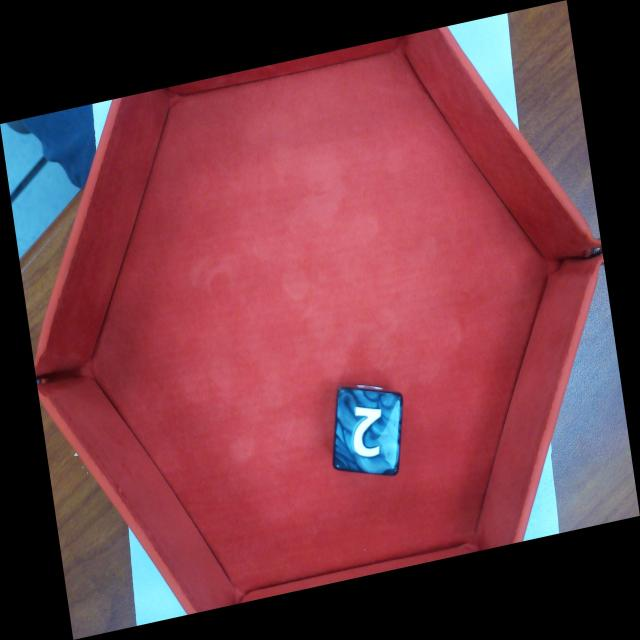dice: (333, 384, 404, 477)
